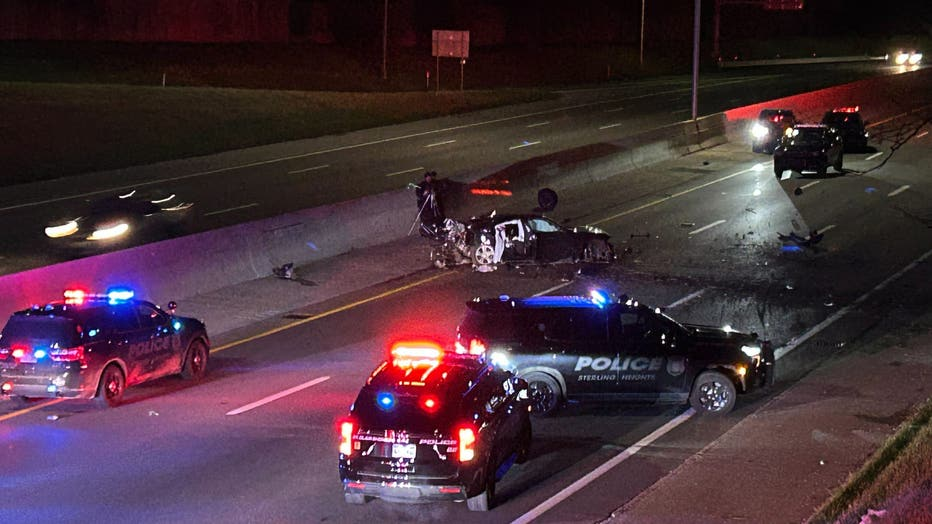Car: (465, 282, 787, 430), (305, 337, 553, 523), (3, 284, 229, 408), (772, 114, 842, 179)
